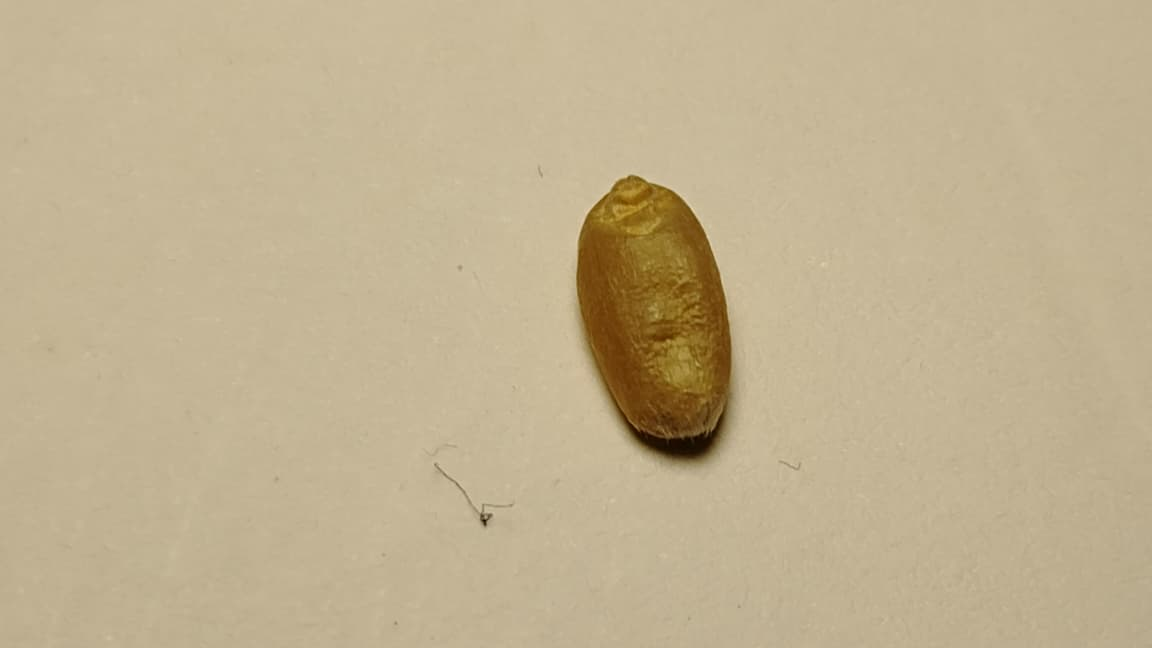healthy: (577, 185, 731, 438)
